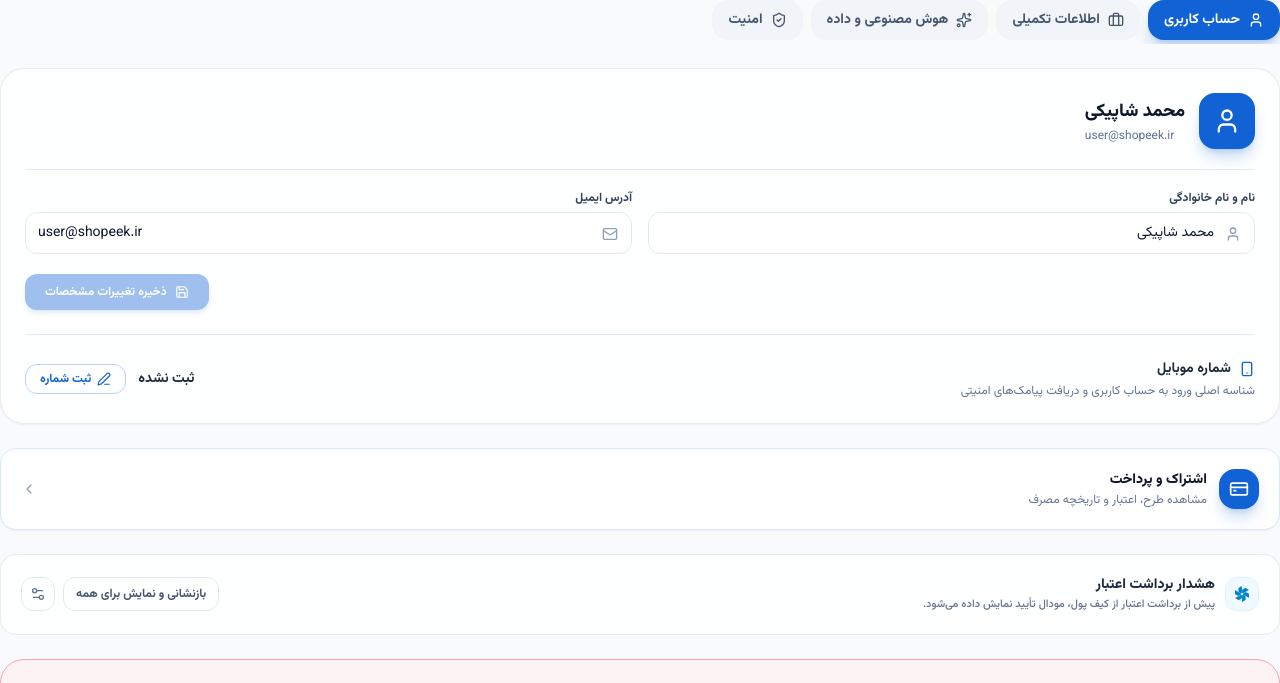
[page] SettingsPage Component & Guide Integration › renders a link to the subscription page on the account tab and the schedule card on the ai_data tab
Expected: the heading "محمد شاپیکی" is shown, top-left (1085, 98), bottom-right (1185, 126)
// Switch to the ai_data tab to reach the schedule card
Click the button "هوش مصنوعی و داده": (900,20) top-left (811, 0), bottom-right (988, 40)
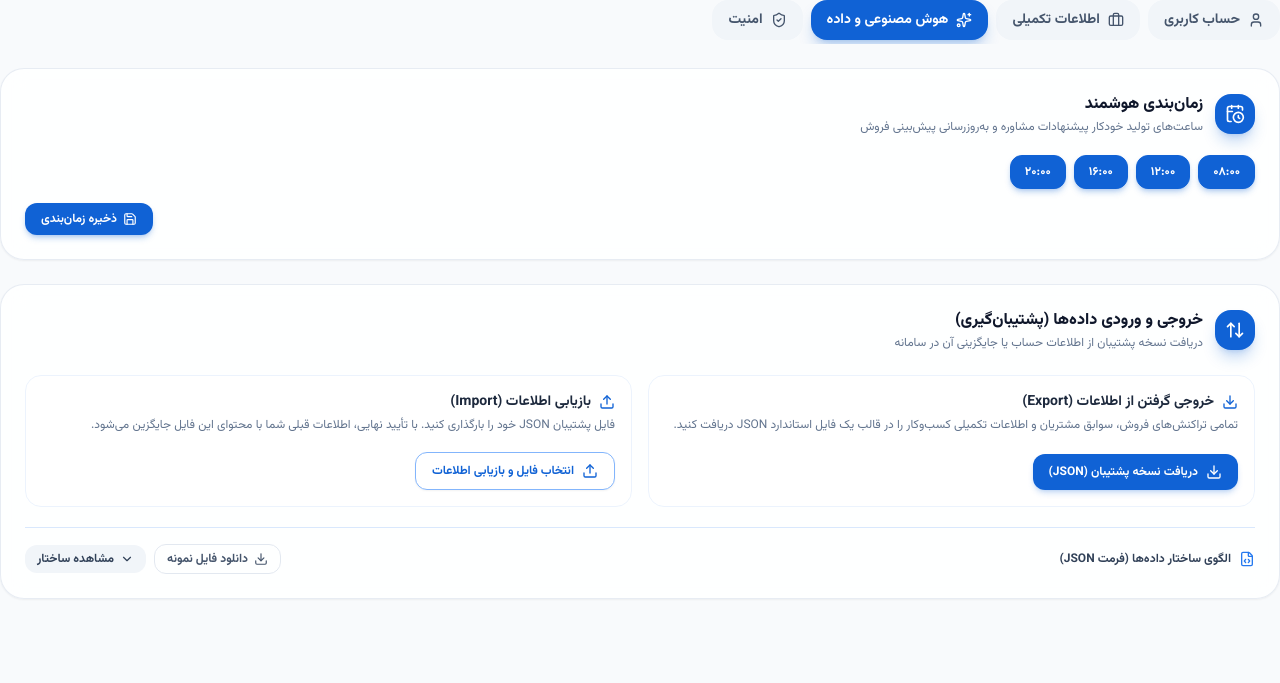
Expected: the element that starts with "زمان‌بندی هوشمند" is shown, top-left (0, 68), bottom-right (1279, 260)
Now the heading "زمان‌بندی هوشمند" is shown, box top-left (1085, 92), bottom-right (1203, 117)
